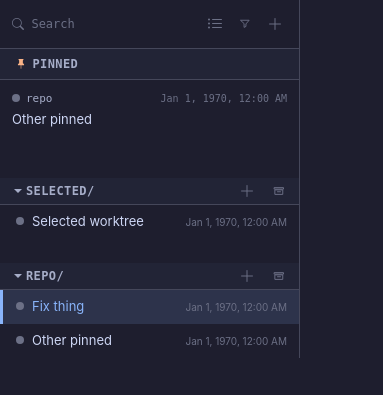
Test: SessionSidebar › filters projects sessions, including pinned and active rows, by project
This screenshot has width=383, height=395.
Click the button named "Filter sessions".
click(245, 24)  # box x1=233 y1=12 x2=257 y2=36
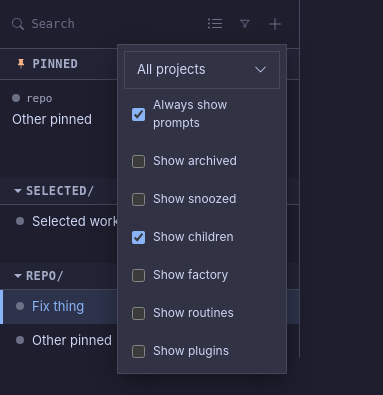
Click the dropdown labelled "project".
click(202, 70)  # box x1=124 y1=51 x2=280 y2=89
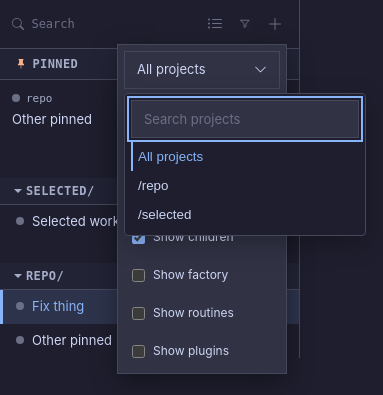
Click the option "/selected".
click(245, 214)  # box x1=131 y1=200 x2=359 y2=229
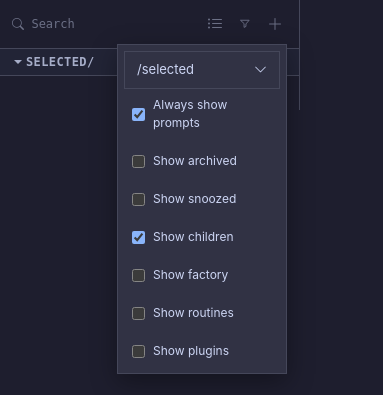
Result: the button "Fix thing" is gone
Result: the button "Other pinned" is gone
Click the dropdown named "Project".
click(202, 70)  # box x1=124 y1=51 x2=280 y2=89
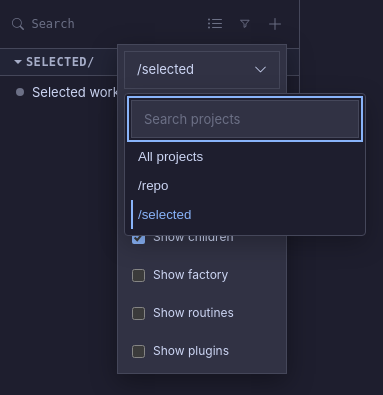
Click the option "All projects".
click(245, 156)  # box x1=131 y1=142 x2=359 y2=171
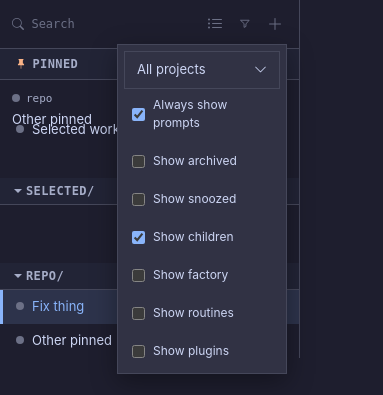
Result: the text "Fix thing" is shown at x1=32 y1=298 x2=84 y2=314
Result: the 1st text "Other pinned" is shown at x1=12 y1=110 x2=92 y2=126
